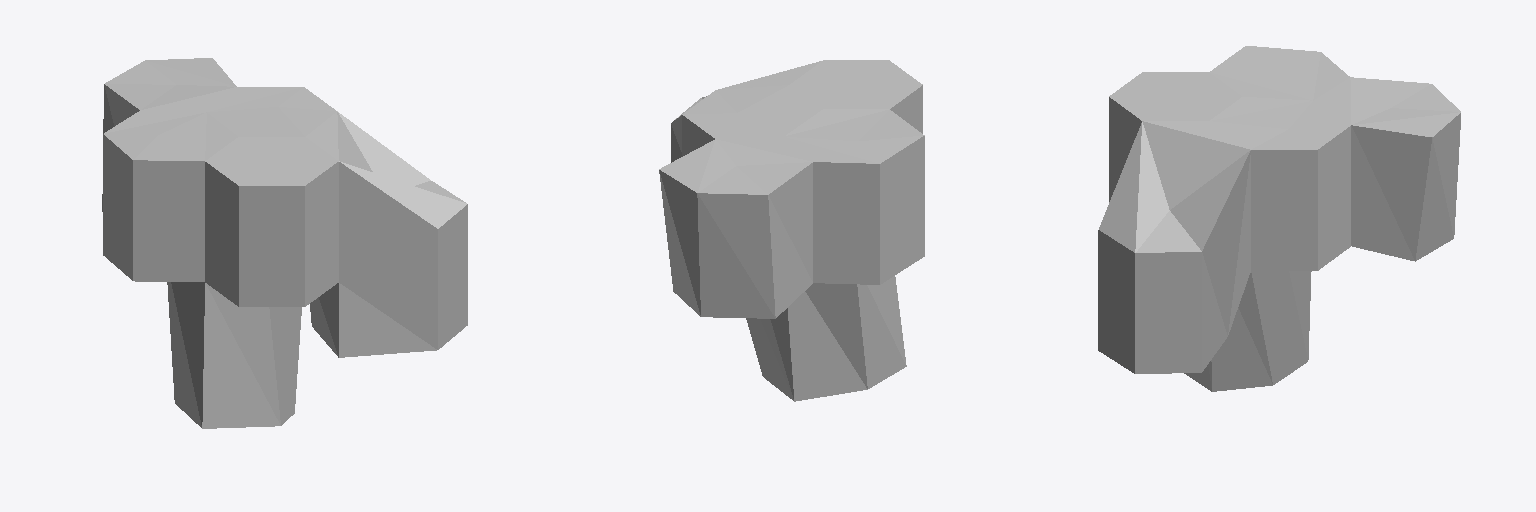
File: hex6.obj
3 views of the same model, side by side, from view 1: azimuth 30°, elevation 25°; view 2: azimuth 150°, elevation 25°; view 3: azimuth 270°, elevation 25° (orthographic).
Visible parts, largest first — view 1: base1.001, base1, base2, top-cell.002, top-cell, base3; view 2: top-cell, base2, top-cell.002, base3, base1, base1.001; view 3: base1.001, top-cell, base3, top-cell.002, base1, base2.
Boxes of the visible parts, x1,y1,x2,y2 form: base1.001: [306, 111, 467, 357]; base1: [205, 137, 338, 306]; base2: [103, 110, 237, 281]; top-cell.002: [167, 282, 301, 428]; top-cell: [102, 58, 236, 211]; base3: [207, 87, 336, 136]; top-cell: [659, 137, 812, 318]; base2: [784, 109, 924, 284]; top-cell.002: [746, 276, 906, 401]; base3: [682, 85, 822, 156]; base1: [790, 60, 922, 133]; base1.001: [671, 61, 820, 162]; base1.001: [1098, 121, 1250, 373]; top-cell: [1314, 77, 1460, 261]; base3: [1210, 97, 1350, 270]; top-cell.002: [1184, 271, 1311, 391]; base1: [1109, 72, 1241, 201]; base2: [1210, 46, 1349, 100].
Bounding box in the file's own units: 4.83 × 4.7 × 5.43.